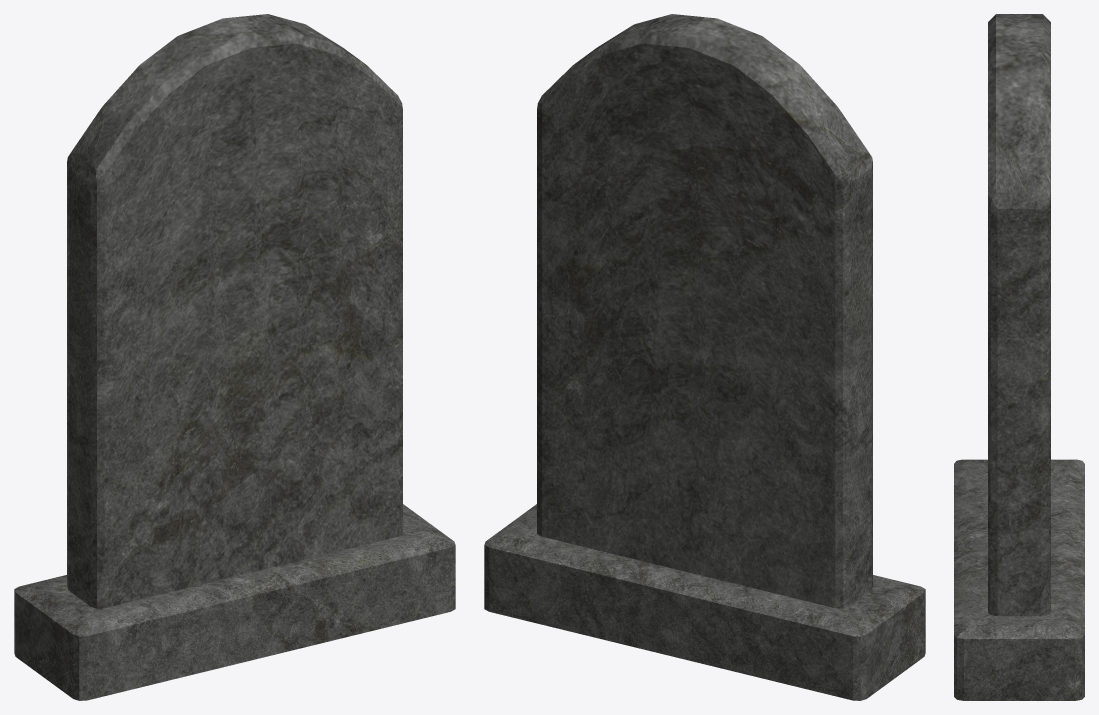
Rendered from tombstone.glb.
3 renders of one model, left to right at view 1: azimuth 30°, elevation 25°; view 2: azimuth 150°, elevation 25°; view 3: azimuth 270°, elevation 25°, orthographic. The views are drawn at different scales.
Parts seen in each view (by area): view 1: Tombstone 1_Lapide_0; view 2: Tombstone 1_Lapide_0; view 3: Tombstone 1_Lapide_0.
Part boxes in pixels (<box>): Tombstone 1_Lapide_0: <box>14,14,455,700</box>; Tombstone 1_Lapide_0: <box>484,14,925,700</box>; Tombstone 1_Lapide_0: <box>954,14,1084,700</box>.
Bounding box in the file's own units: 0.5541 × 0.8388 × 0.1709.
Materials: 1 (1 with a texture image).
